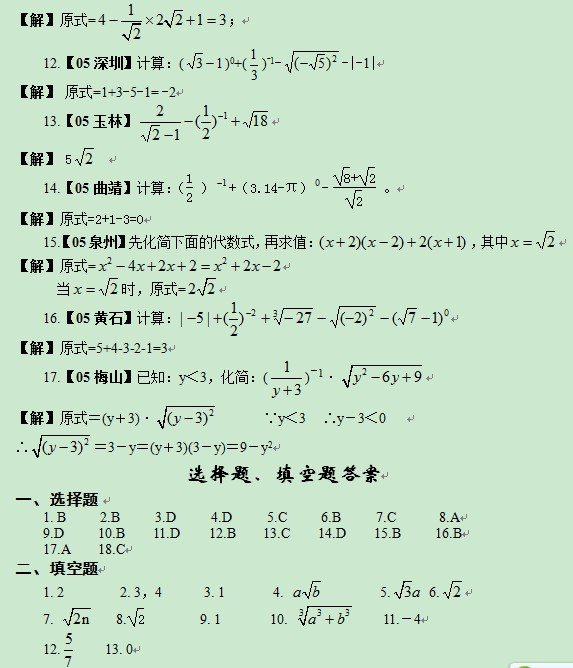cube: (344, 609, 355, 618), (317, 609, 324, 616)
division: (327, 180, 385, 196), (138, 114, 179, 129), (120, 16, 147, 29), (270, 375, 304, 385), (57, 645, 77, 656)
sqrt: (342, 361, 422, 394), (156, 402, 215, 433), (33, 431, 91, 462), (285, 45, 338, 75), (329, 302, 375, 333), (240, 106, 267, 134), (66, 606, 93, 631), (141, 122, 165, 146), (441, 578, 463, 604), (304, 577, 326, 602), (358, 160, 378, 187), (537, 226, 559, 250), (333, 160, 351, 189), (124, 19, 143, 46), (399, 303, 417, 331), (76, 144, 91, 177), (199, 275, 222, 295), (166, 5, 184, 29), (187, 49, 204, 74), (396, 577, 410, 606), (102, 276, 119, 298), (126, 607, 143, 629)
square: (219, 253, 231, 269), (105, 251, 112, 267), (358, 368, 368, 378), (267, 438, 276, 449), (329, 53, 336, 65), (208, 408, 215, 419), (84, 436, 90, 446)
